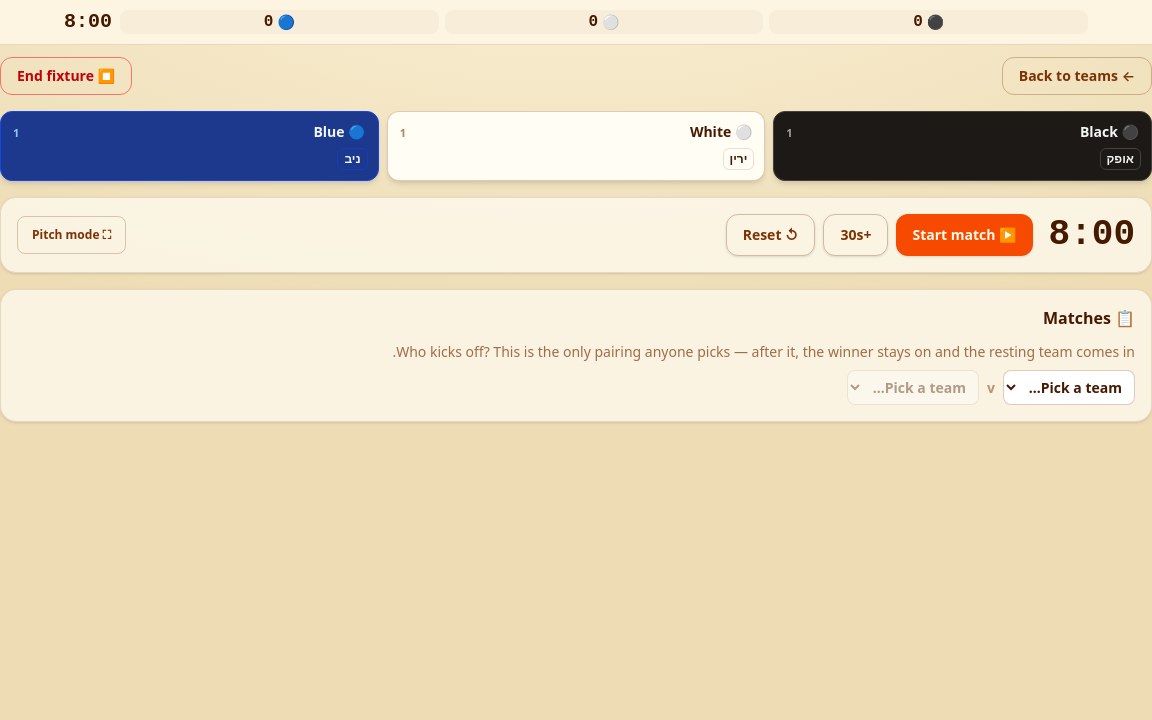
ending a night › tells a locked device why it cannot file, instead of showing nothing
This screenshot has width=1152, height=720.
Click the button "⏹️ End fixture": [66, 76] box [0,57,132,95]
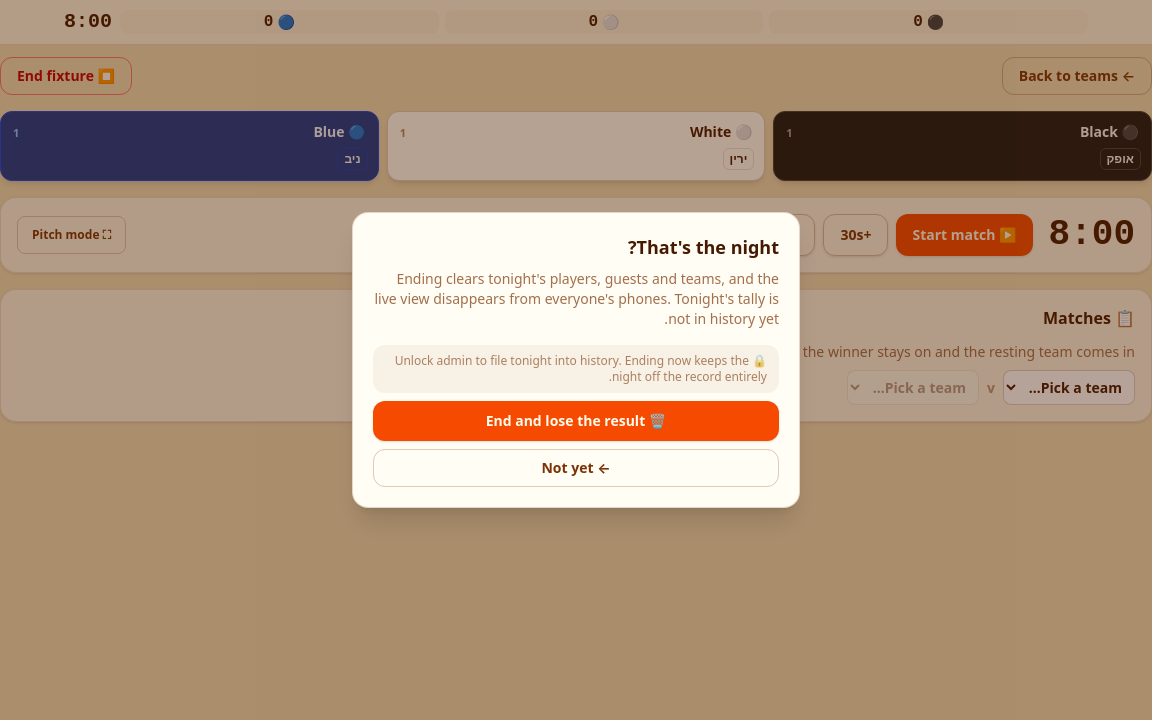
Result: the text "Unlock admin to file tonight" is shown at [395,352,767,385]
